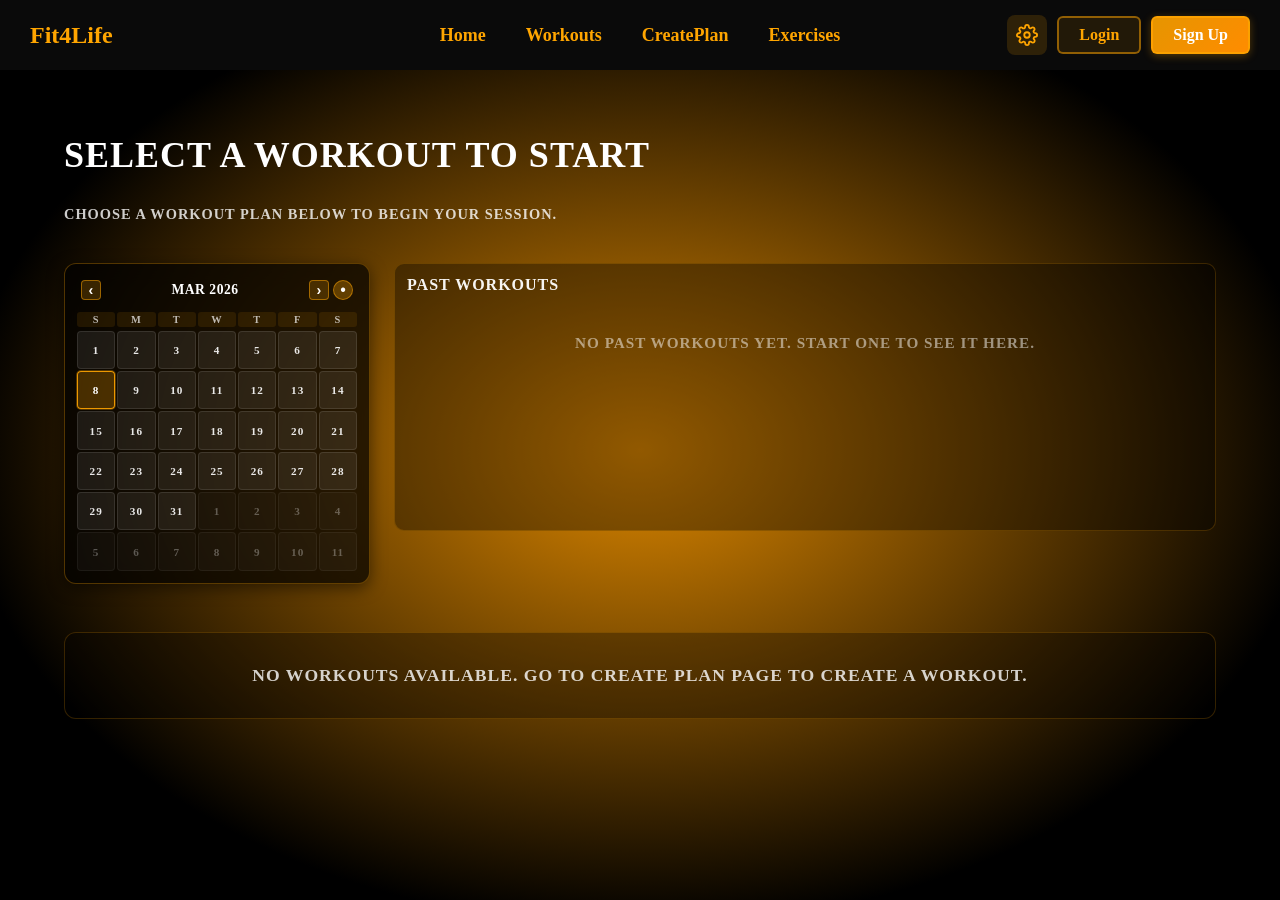
Test: App (integration) › full flow: settings modal open -> change option -> close
Click the button named "settings" at (1027, 35), box [1007,15,1047,55]
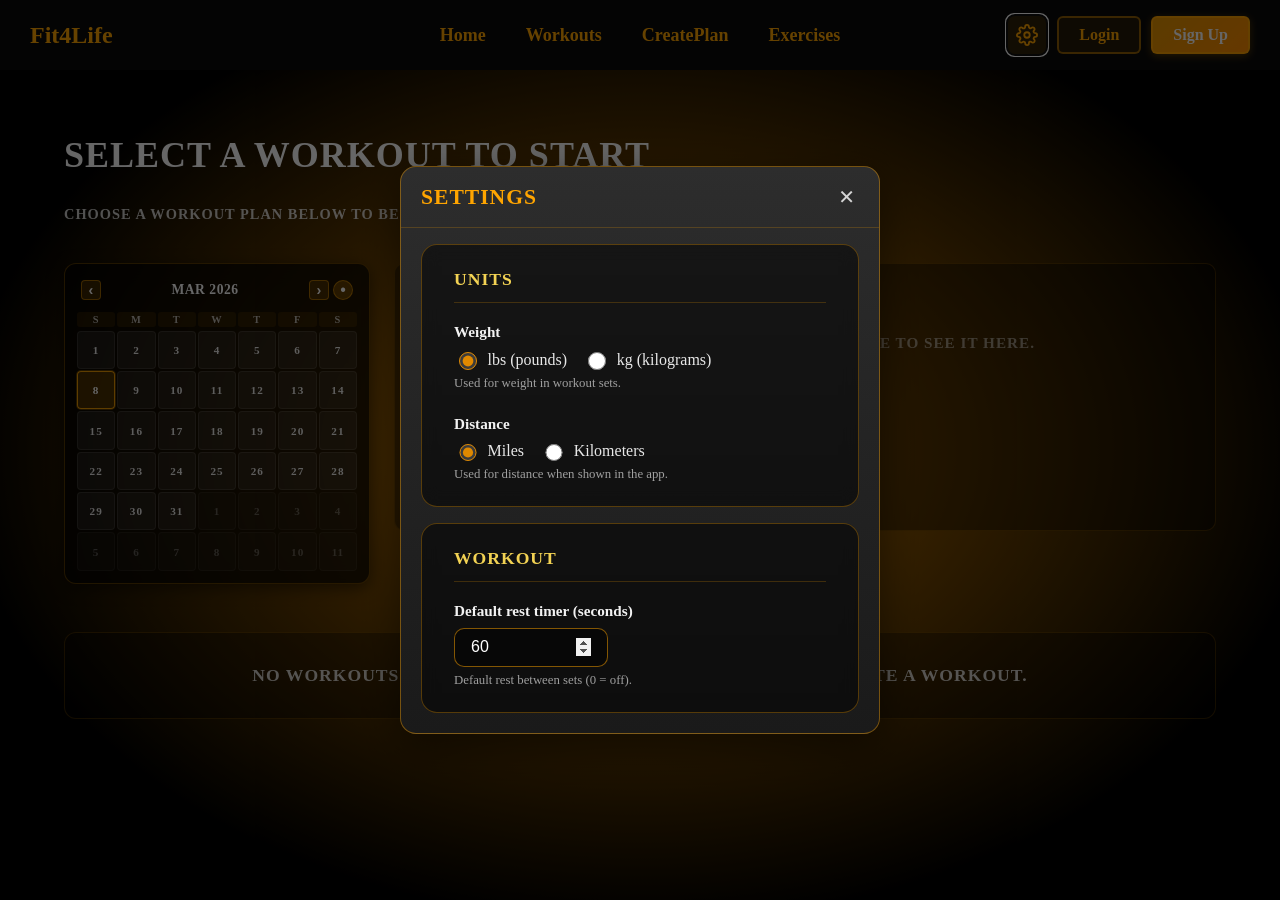
Result: the heading "Settings" is shown at [421,185,537,210]
Click the radio button labelled "kg (kilograms)" at (597, 361), box [588,352,606,370]
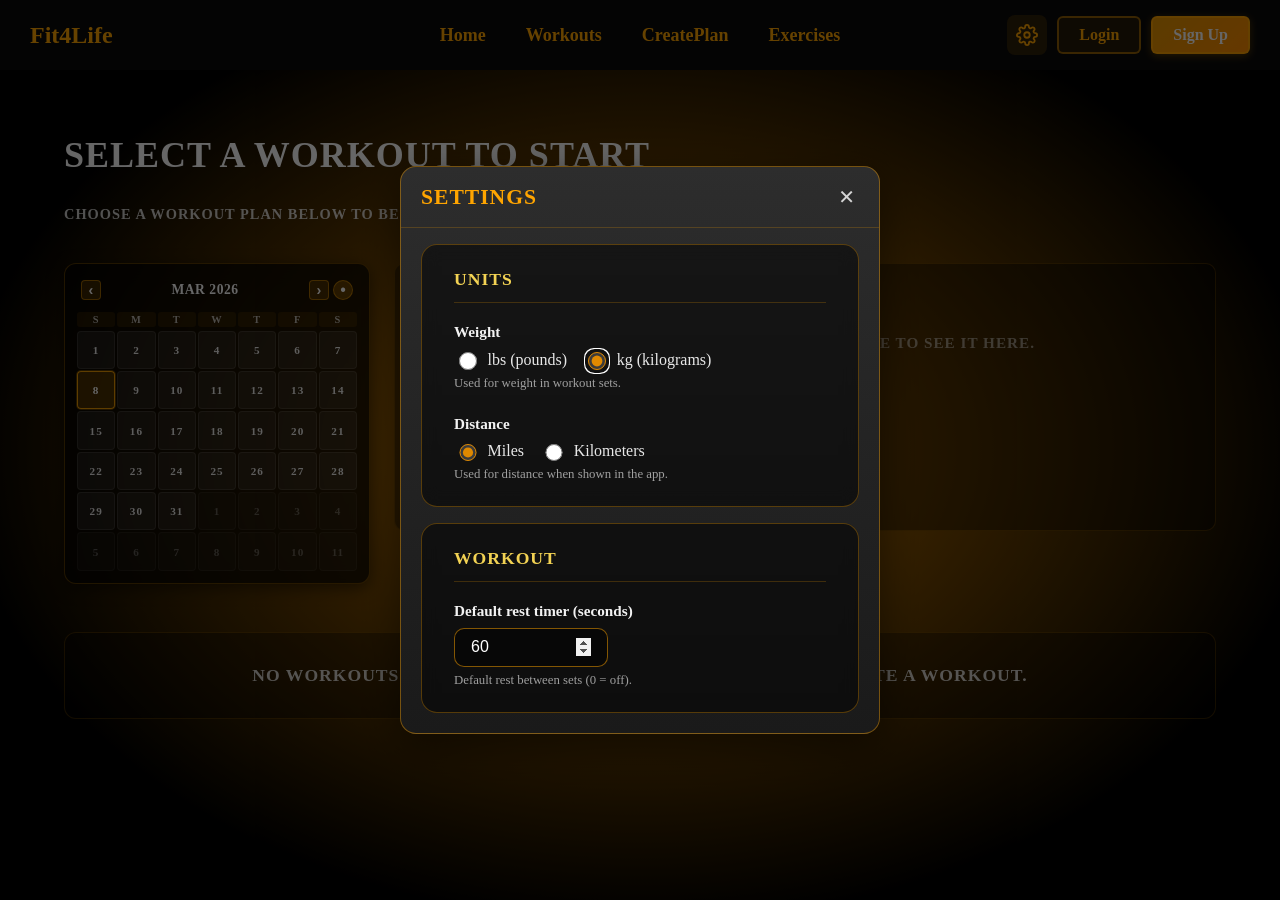
Result: the radio button labelled "kg (kilograms)" is checked at [588,352,606,370]
Click the button named "close" at (847, 197), box [834,183,859,211]
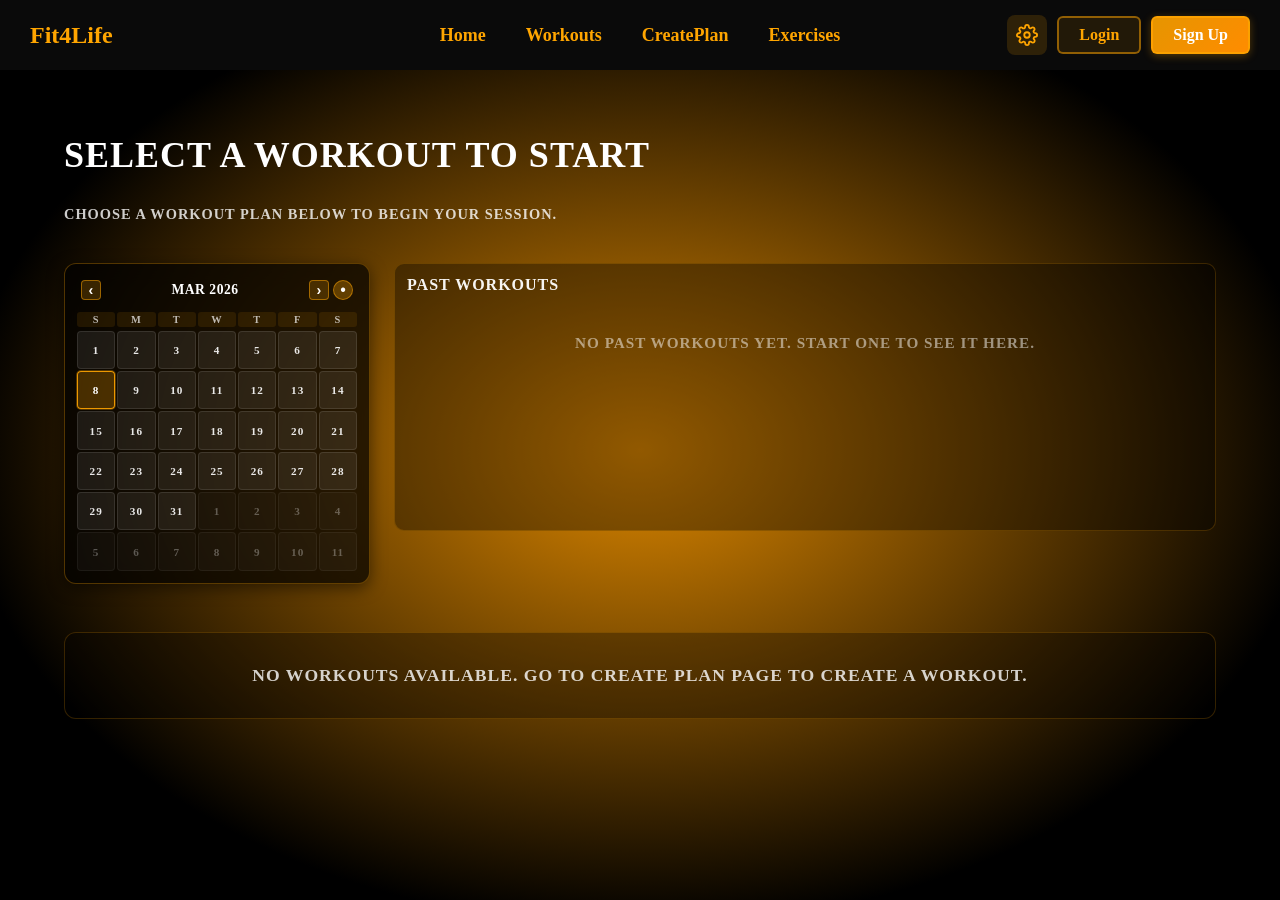
Result: the heading "Settings" is gone
